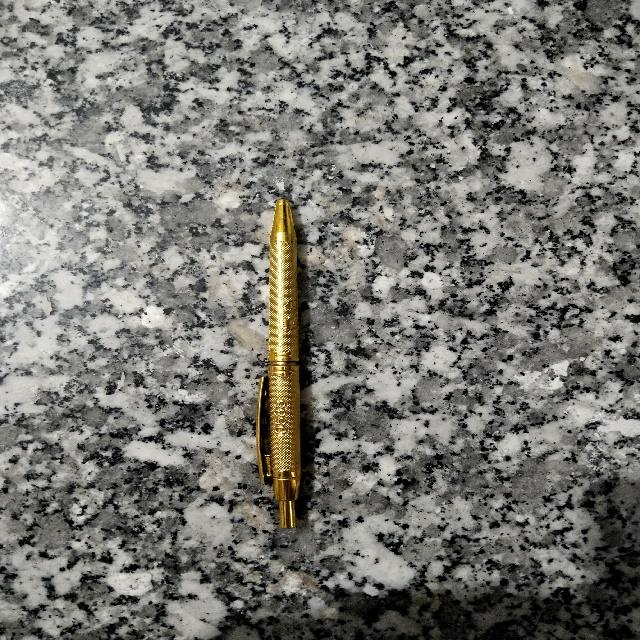signature pen: (256, 199, 301, 528)
